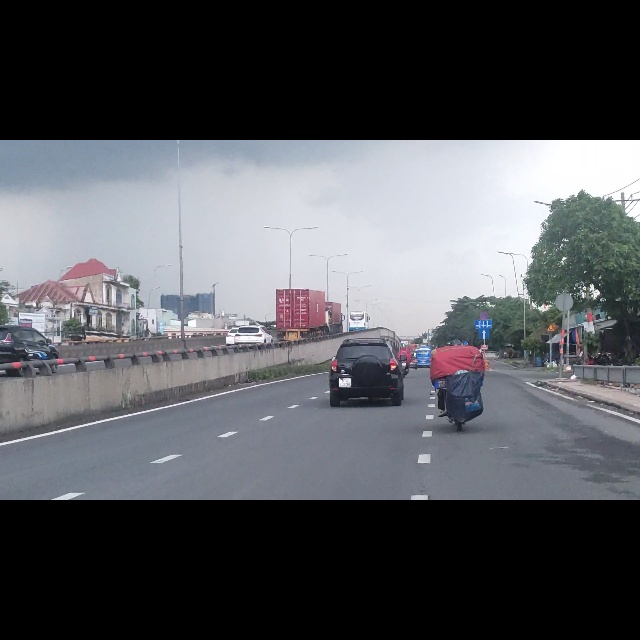bien_chi_dan: (478, 335, 490, 354), (480, 305, 487, 319)
